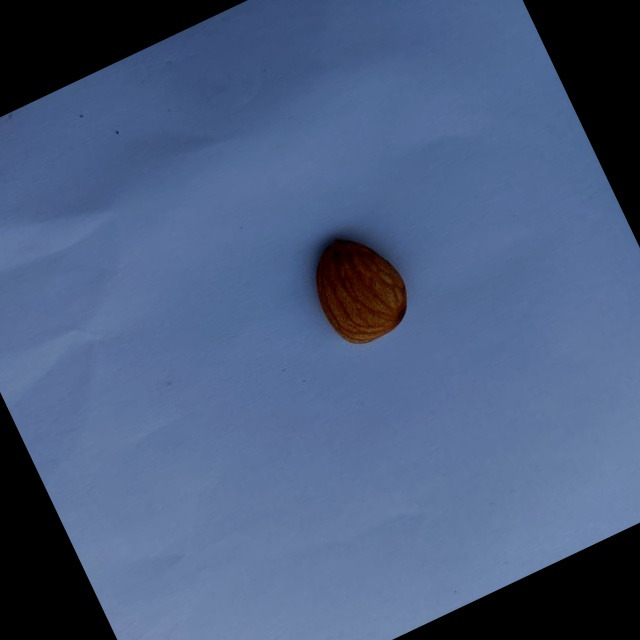grade1: (286, 212, 429, 365)
